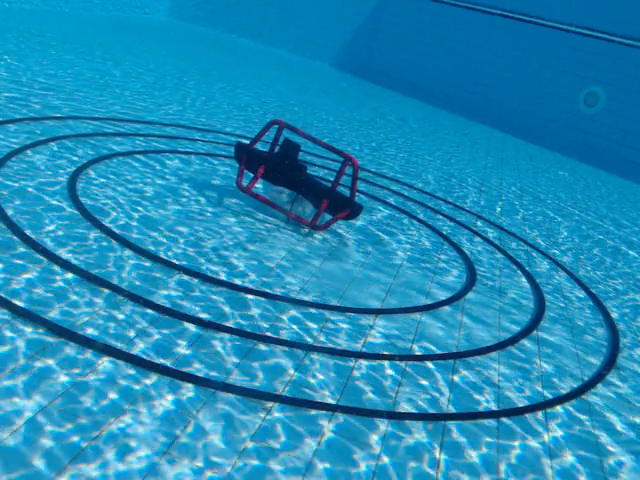submarine: (232, 118, 365, 234)
